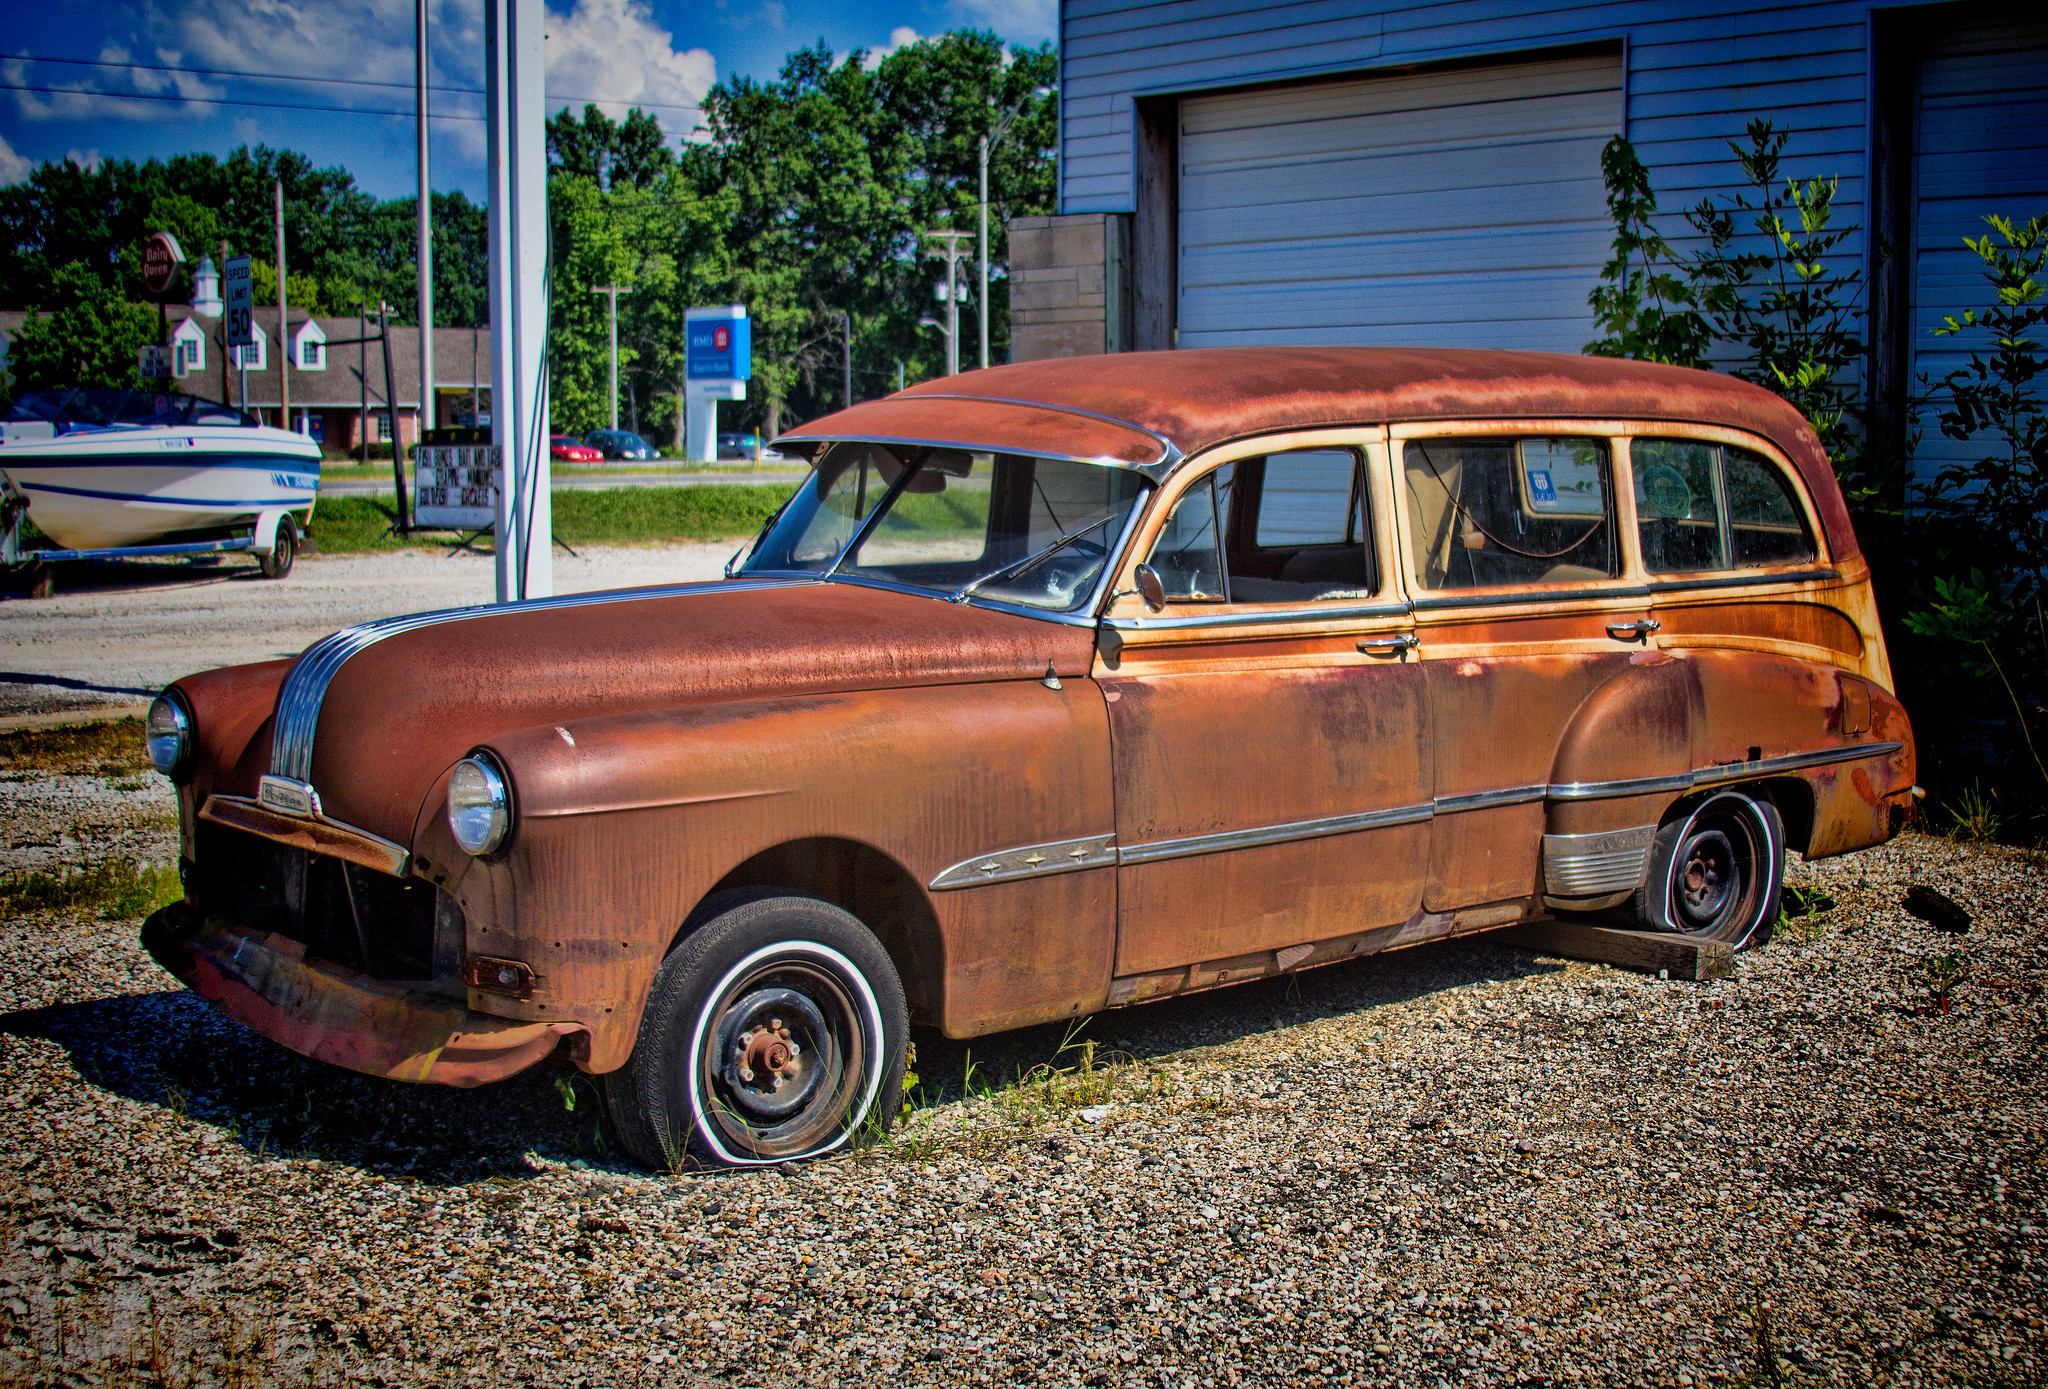Car: (119, 329, 1946, 1178)
